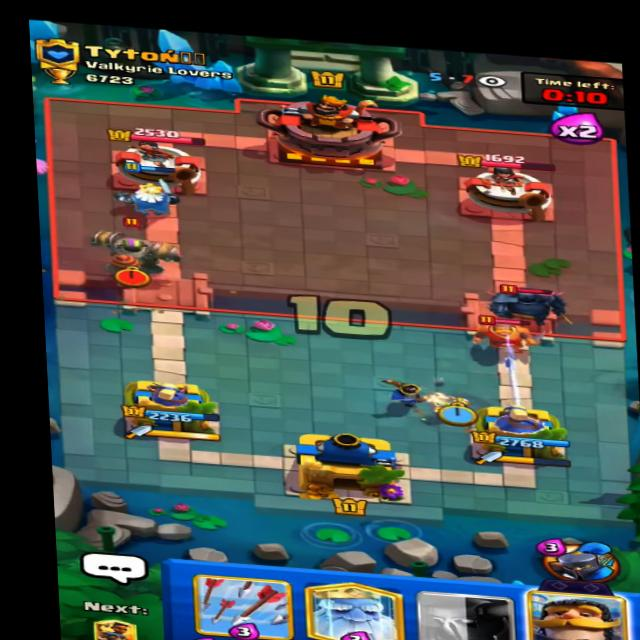goblin-machine: (86, 213, 181, 291)
knight: (471, 304, 540, 356)
pekka: (485, 272, 577, 324)
